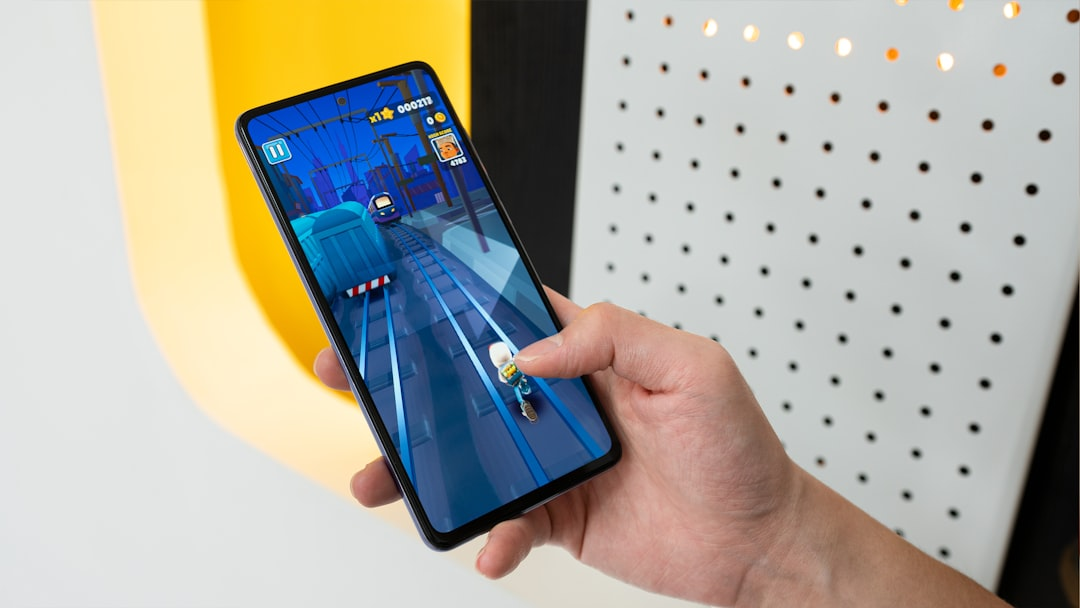phone: (232, 59, 626, 553)
